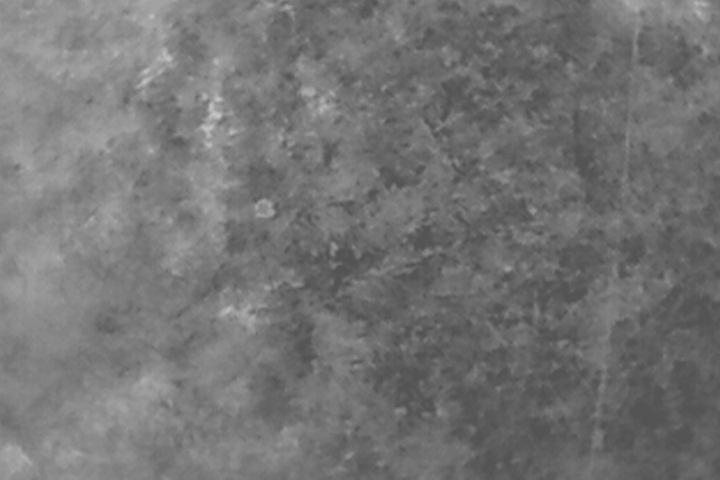landmine: (252, 197, 279, 220)
